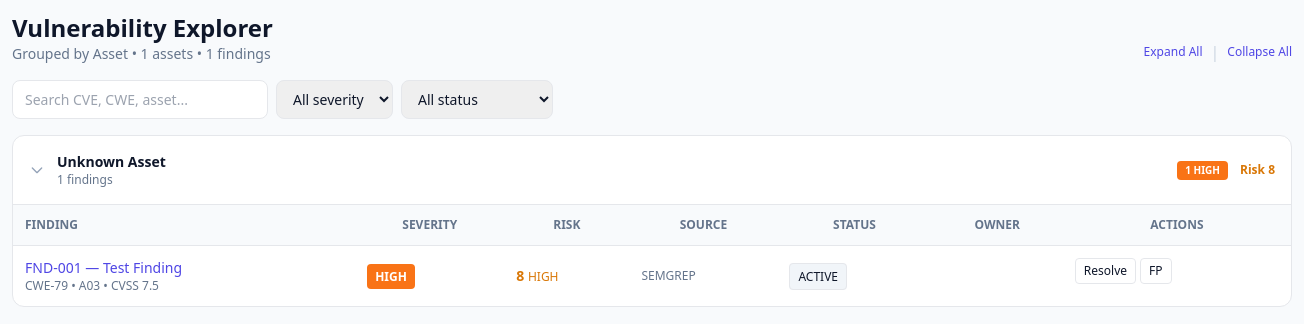
it: Findings › search input filters findings by title
Expected: the link "FND-001 — Test Finding" is shown, top-left (25, 258), bottom-right (182, 277)
Step 1. Type "xyz" into the field with placeholder "Search CVE, CWE, asset..." → point(140, 100), box top-left (12, 80), bottom-right (268, 119)
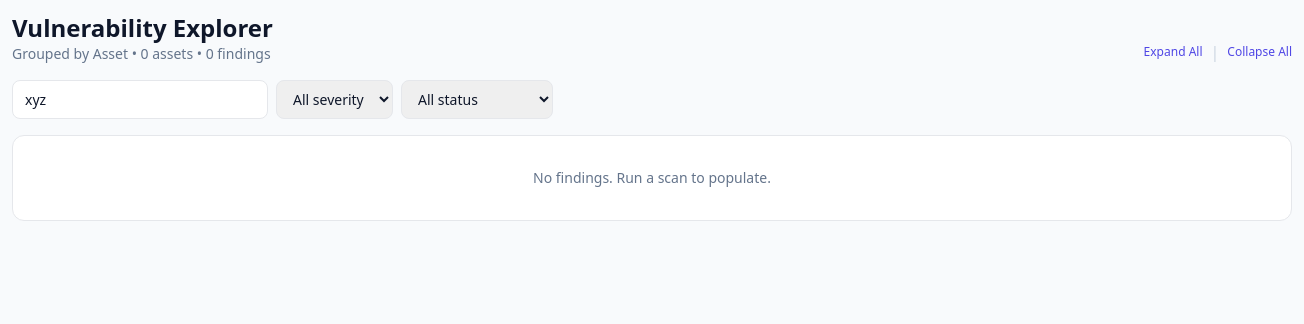
Expected: the text "No findings. Run a scan to populate." is shown, top-left (12, 135), bottom-right (1292, 221)
